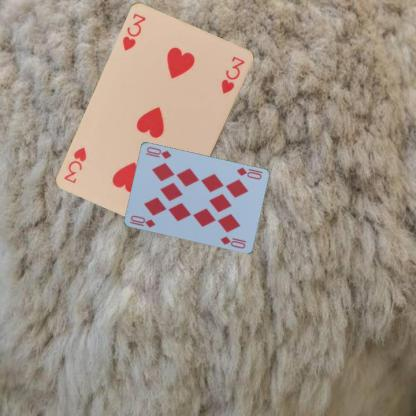10d: (127, 212, 157, 228), (234, 165, 262, 181)
3h: (120, 11, 147, 53)
